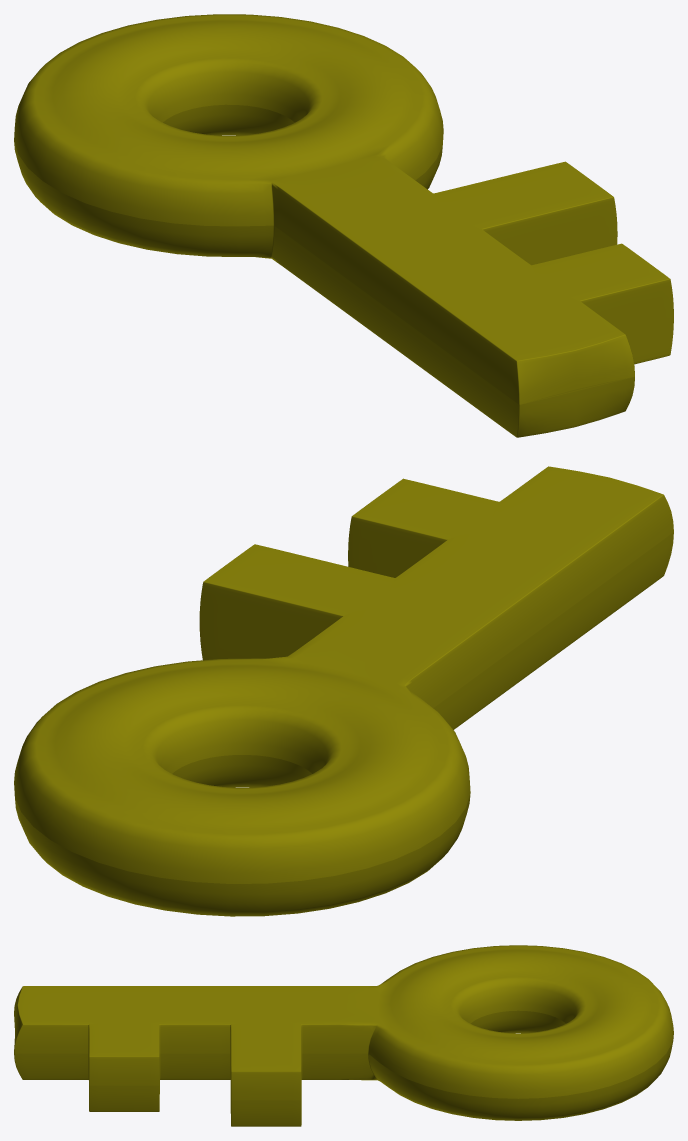
Rendered from Cle.fbx.
3 views of the same model, one above another, from view 1: azimuth 30°, elevation 25°; view 2: azimuth 150°, elevation 25°; view 3: azimuth 270°, elevation 25° (orthographic). The views are drawn at different scales.
Visible parts, largest first — view 1: Cle; view 2: Cle; view 3: Cle.
Part boxes in pixels (x1,y1,x2,y2): Cle: (14, 14, 673, 437); Cle: (14, 466, 673, 916); Cle: (14, 945, 673, 1126).
Bounding box in the file's own units: 2.99 × 0.6827 × 6.26.
